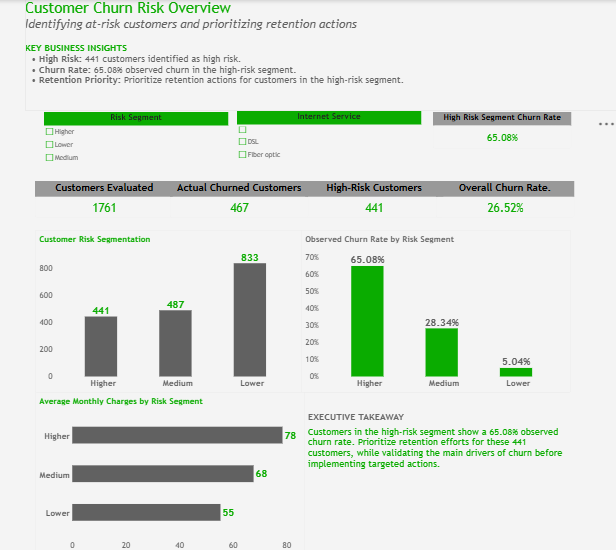

Layout of this report page (visuals, bound fields, positions):
{"tool":"powerbi","page":{"name":"Customer Churn Risk Overview","canvas":[2700,2700],"ordinal":0},"visuals":[{"type":"cardVisual","title":"Customers Evaluated","fields":{"Data":["CountNonNull(customer_churn_powerbi.actual_churn)"]},"box":[150,756.7,553.3,146.7],"z":0},{"type":"cardVisual","title":"High-Risk Customers","fields":{"Data":["CountNonNull(customer_churn_powerbi.risk_band)"]},"box":[1230,756.7,553.3,146.7],"z":1000},{"type":"clusteredColumnChart","title":"Customer Risk Segmentation","fields":{"Category":["customer_churn_powerbi.risk_band"],"Y":["CountNonNull(customer_churn_powerbi.risk_band)"]},"box":[150,950,1080,650],"z":2000},{"type":"clusteredColumnChart","title":"Observed Churn Rate by Risk Segment","fields":{"Category":["customer_churn_powerbi.risk_band"],"Y":["customer_churn_powerbi.Observed Churn Rate"]},"box":[1216.7,950,1080,650],"z":3000},{"type":"clusteredBarChart","title":"Average Monthly Charges by Risk Segment","fields":{"Category":["customer_churn_powerbi.risk_band"],"Y":["Avg(customer_churn_powerbi.monthlycharges)"]},"box":[150,1600,1080,650],"z":4000},{"type":"cardVisual","title":"Overall Churn Rate.","fields":{"Data":["customer_churn_powerbi.Observed Churn Rate"]},"box":[1756.7,756.7,553.3,146.7],"z":5000},{"type":"cardVisual","title":"Actual Churned Customers","fields":{"Data":["customer_churn_powerbi.Actual Churned Customers"]},"box":[690,756.7,553.3,146.7],"z":6000},{"type":"cardVisual","title":"High Risk Segment Churn Rate","fields":{"Data":["Avg(customer_churn_powerbi.actual_churn)"]},"box":[1743.3,480,553.3,146.7],"z":7000},{"type":"textbox","title":"Customer Churn Risk Overview","box":[110,26.7,2383.3,450],"z":8000},{"type":"slicer","title":"Risk Segment","fields":{"Values":["customer_churn_powerbi.risk_band"]},"box":[186.7,480,736.7,223.3],"z":9000},{"type":"slicer","title":"Internet Service","fields":{"Values":["customer_churn_powerbi.internetservice"]},"box":[960,476.7,736.7,226.7],"z":10000},{"type":"textbox","box":[1245,1675,1050,575],"z":11000}]}

Visuals, with their boxes on the page's 2700x2700 design canvas (x1, y1, x2, y2). These are canvas units, not pixel positions in the 616x550 screenshot, which may show the page scaled, cropped or inside an application window:
"Customers Evaluated" cardVisual: 150/757/703/903
"High-Risk Customers" cardVisual: 1230/757/1783/903
"Customer Risk Segmentation" clusteredColumnChart: 150/950/1230/1600
"Observed Churn Rate by Risk Segment" clusteredColumnChart: 1217/950/2297/1600
"Average Monthly Charges by Risk Segment" clusteredBarChart: 150/1600/1230/2250
"Overall Churn Rate." cardVisual: 1757/757/2310/903
"Actual Churned Customers" cardVisual: 690/757/1243/903
"High Risk Segment Churn Rate" cardVisual: 1743/480/2297/627
"Customer Churn Risk Overview" textbox: 110/27/2493/477
"Risk Segment" slicer: 187/480/923/703
"Internet Service" slicer: 960/477/1697/703
textbox: 1245/1675/2295/2250
